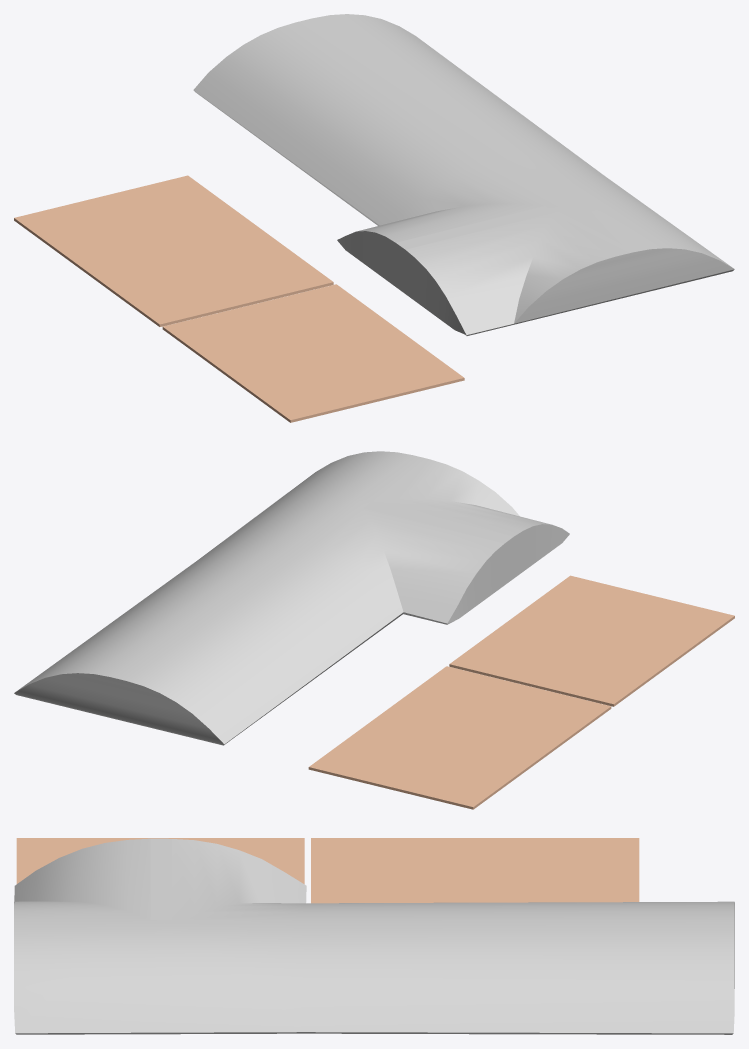
Rendered from Brewery_Bachelor_Building_Roof.fbx.
3 renders of one model, top to bottom at view 1: azimuth 30°, elevation 25°; view 2: azimuth 150°, elevation 25°; view 3: azimuth 270°, elevation 25°, orthographic. The views are drawn at different scales.
Visible parts, largest first — view 1: R02_Roof, R04_Roof; view 2: R02_Roof, R04_Roof; view 3: R02_Roof, R04_Roof.
Boxes of the visible parts, x1,y1,x2,y2 form: R02_Roof: [193, 14, 734, 335]; R04_Roof: [14, 175, 464, 422]; R02_Roof: [14, 451, 569, 745]; R04_Roof: [308, 575, 734, 809]; R02_Roof: [14, 838, 734, 1034]; R04_Roof: [16, 838, 639, 903].
Bounding box in the file's own units: 1918 × 364 × 2397.
